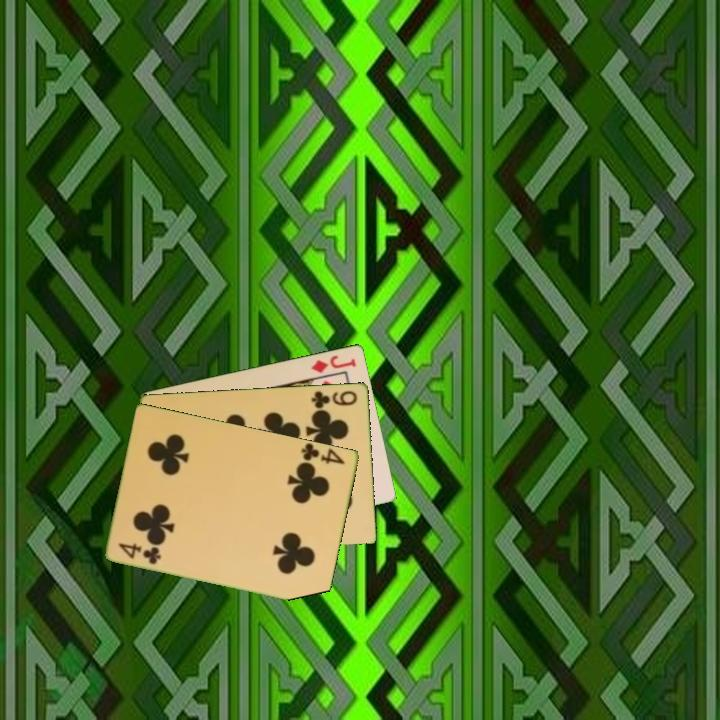4c: (115, 539, 164, 567), (298, 440, 348, 467)
9c: (308, 387, 360, 411)
Jd: (308, 351, 359, 375)
